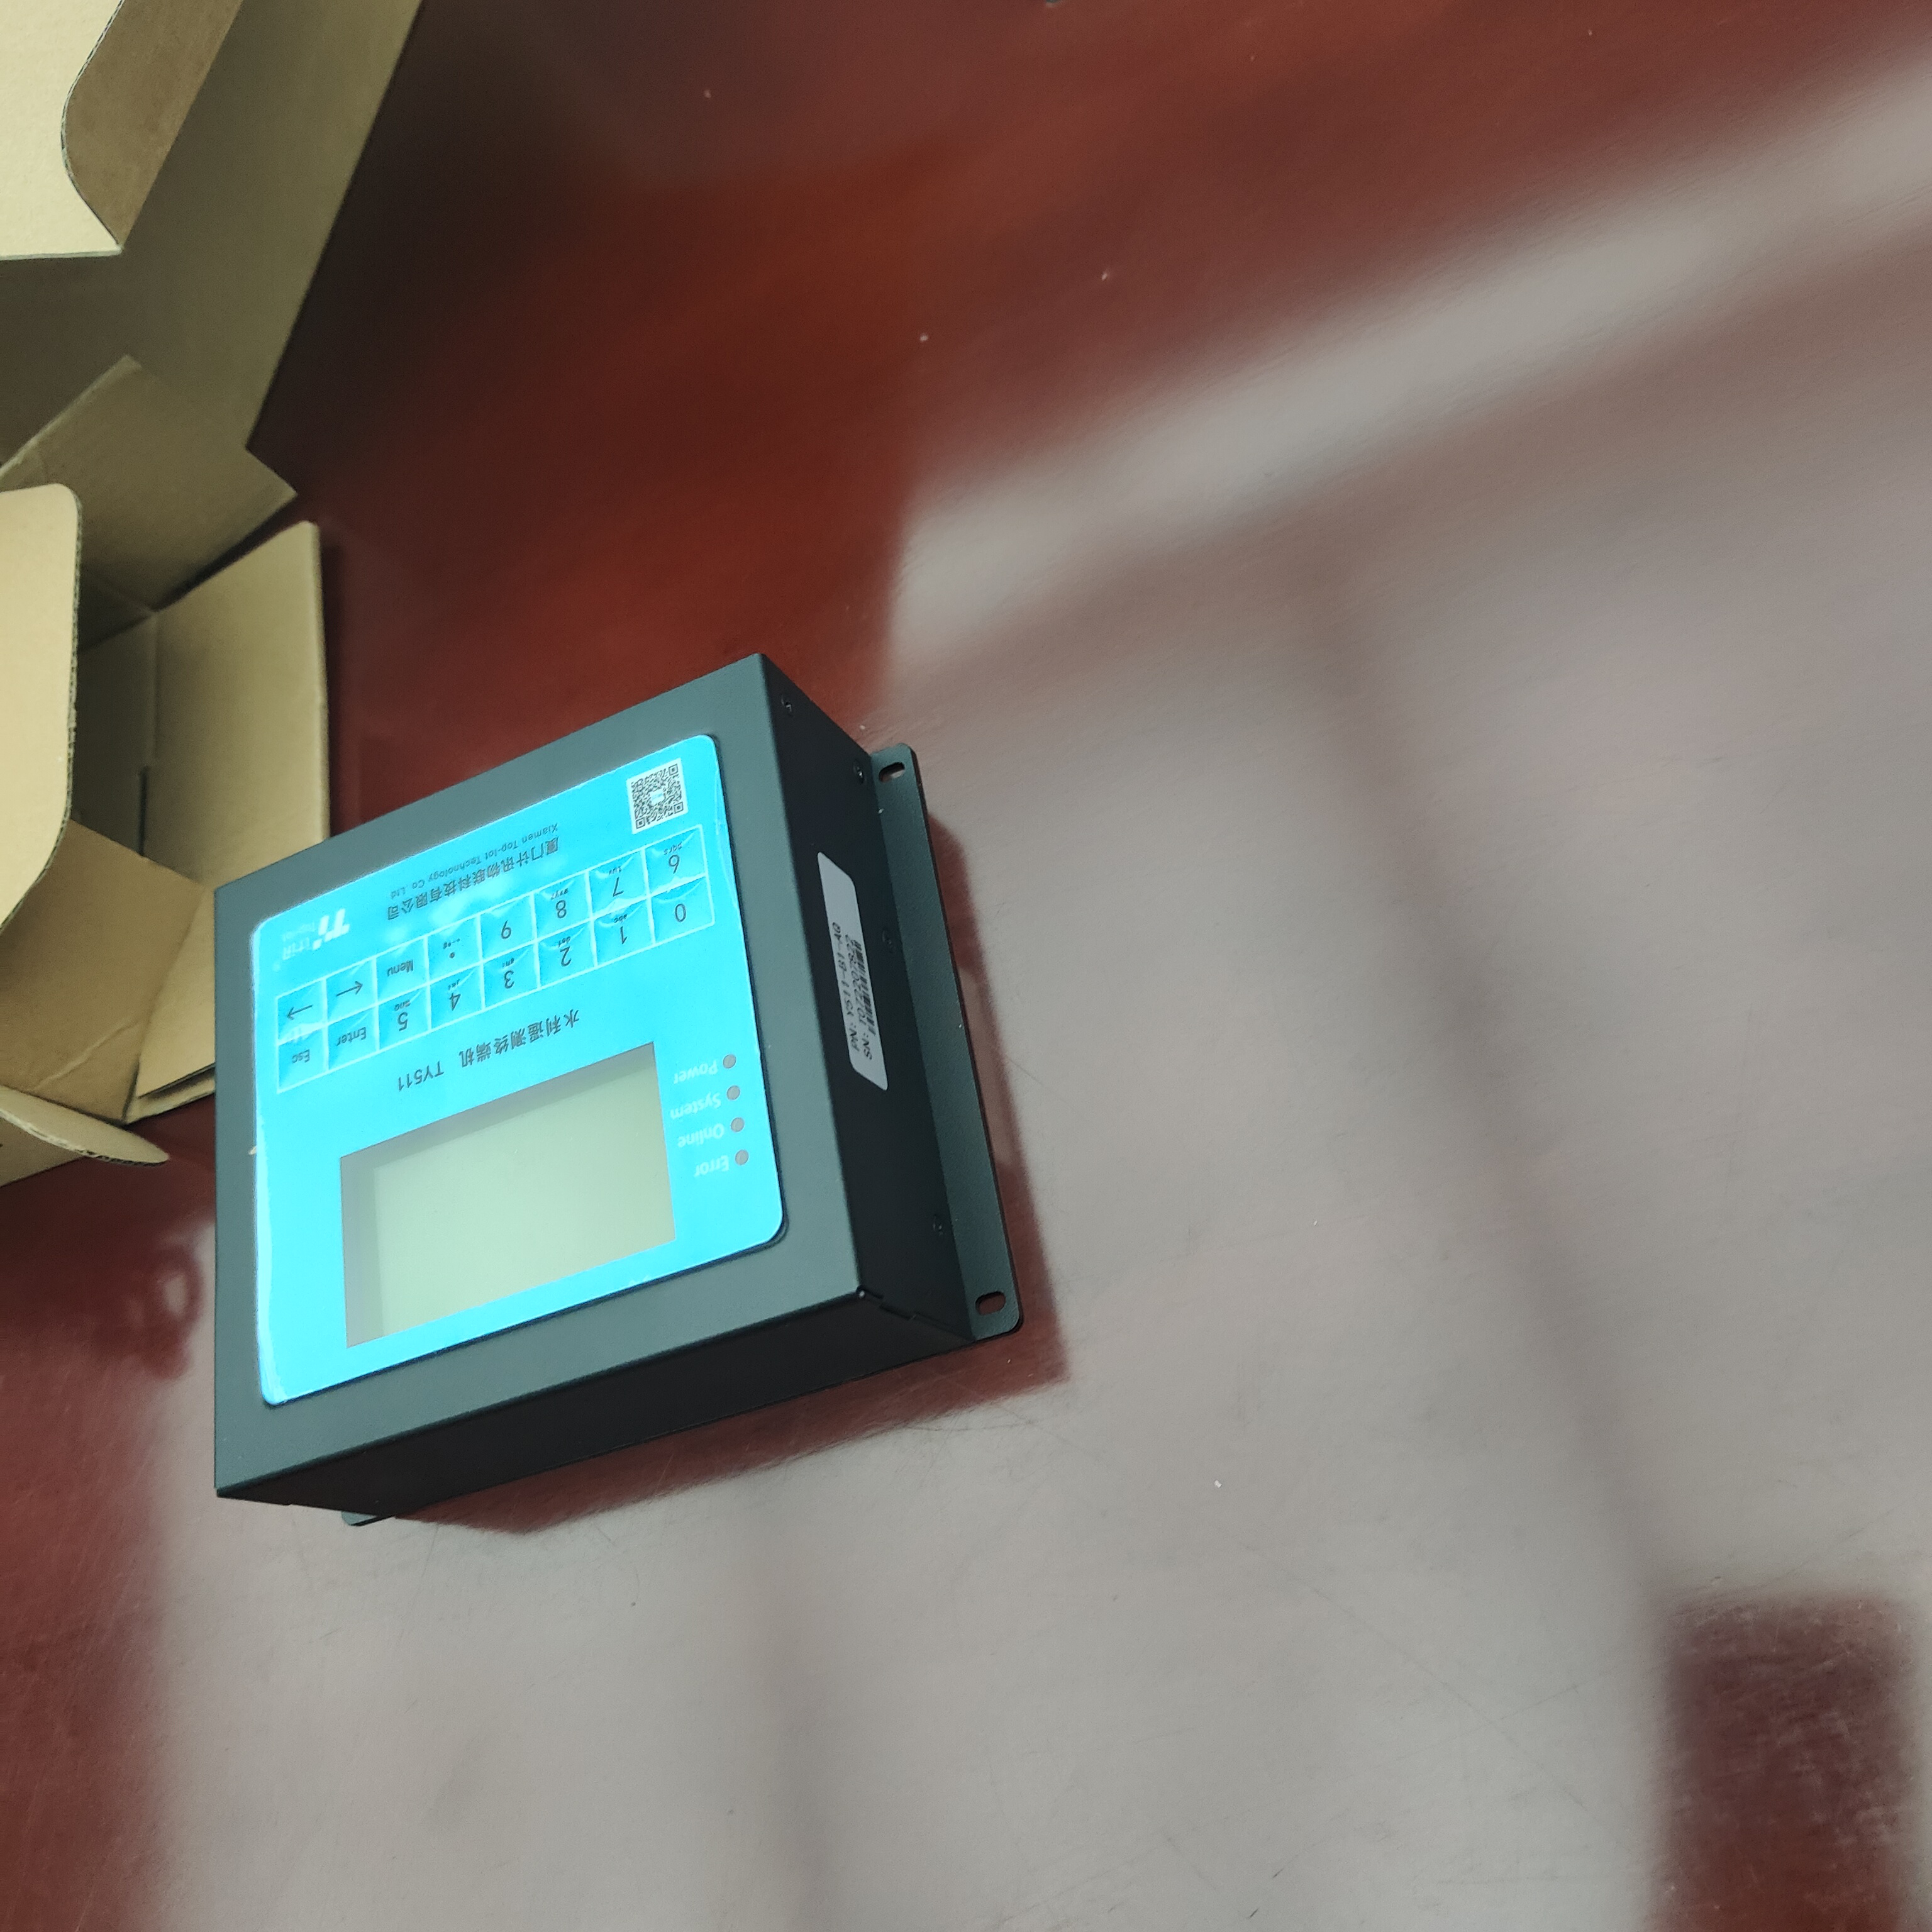slyczd: (202, 642, 1040, 1529)
